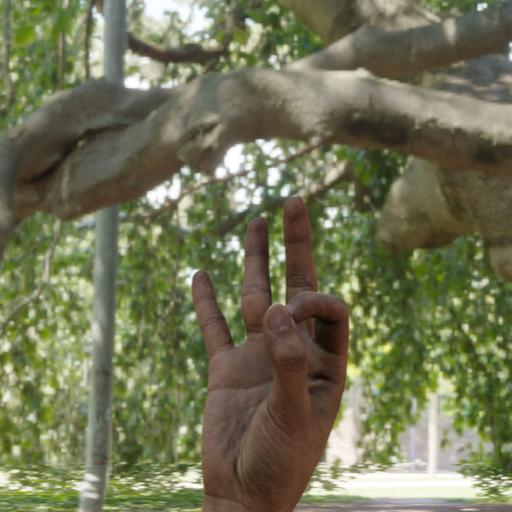F: (165, 184, 366, 512)
